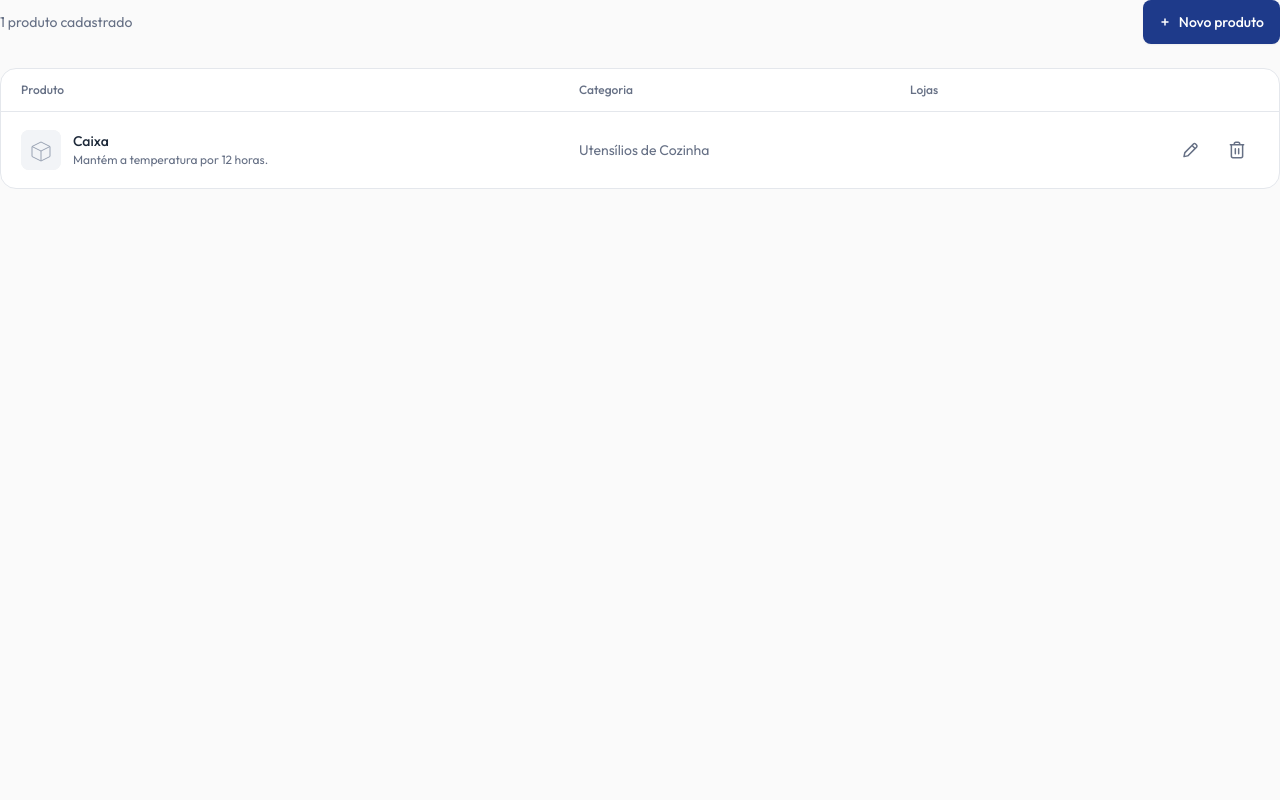
Test case: ProductAdminPanel › keeps only the chosen category when the product had several
The image size is (1280, 800).
Click the button named "Editar Caixa": (1189,150) [1167, 128, 1211, 172]
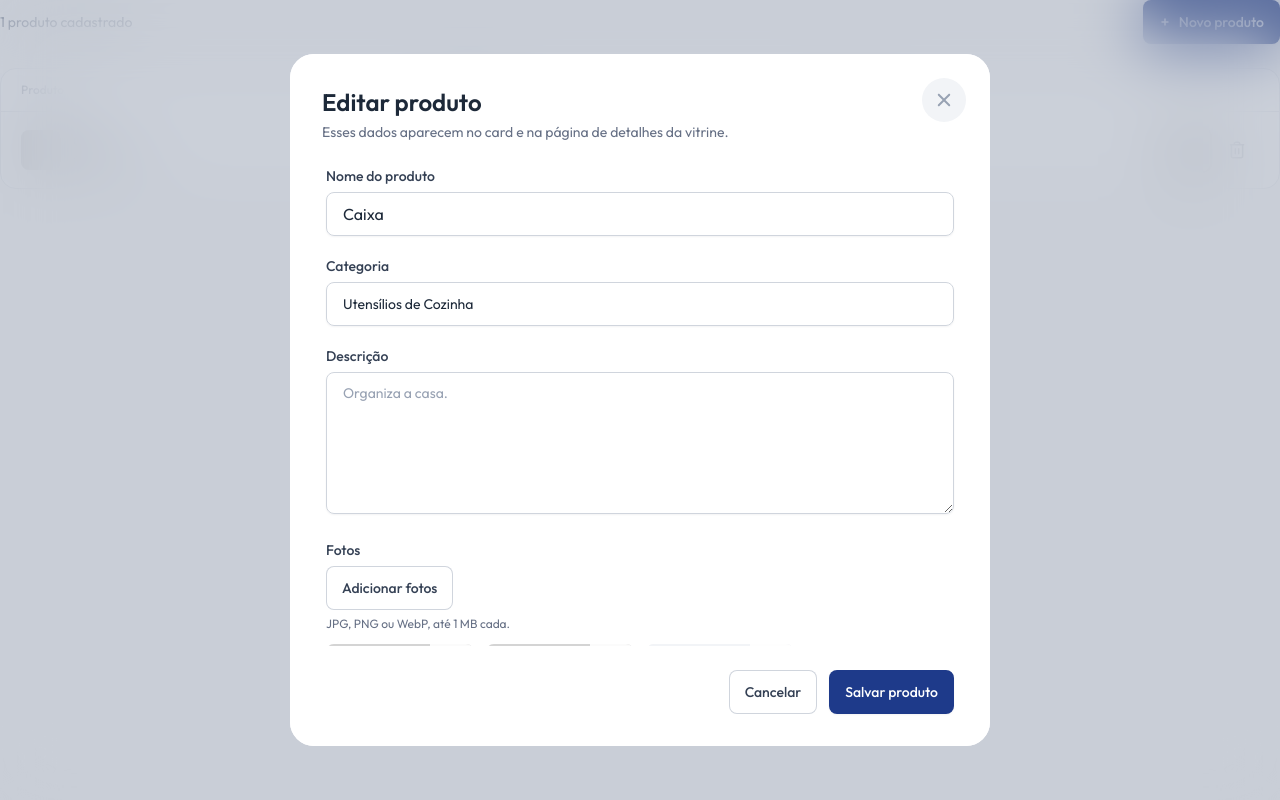
Select "Banheiros" in the dropdown labelled "Categoria": (640,304) [326, 282, 954, 326]
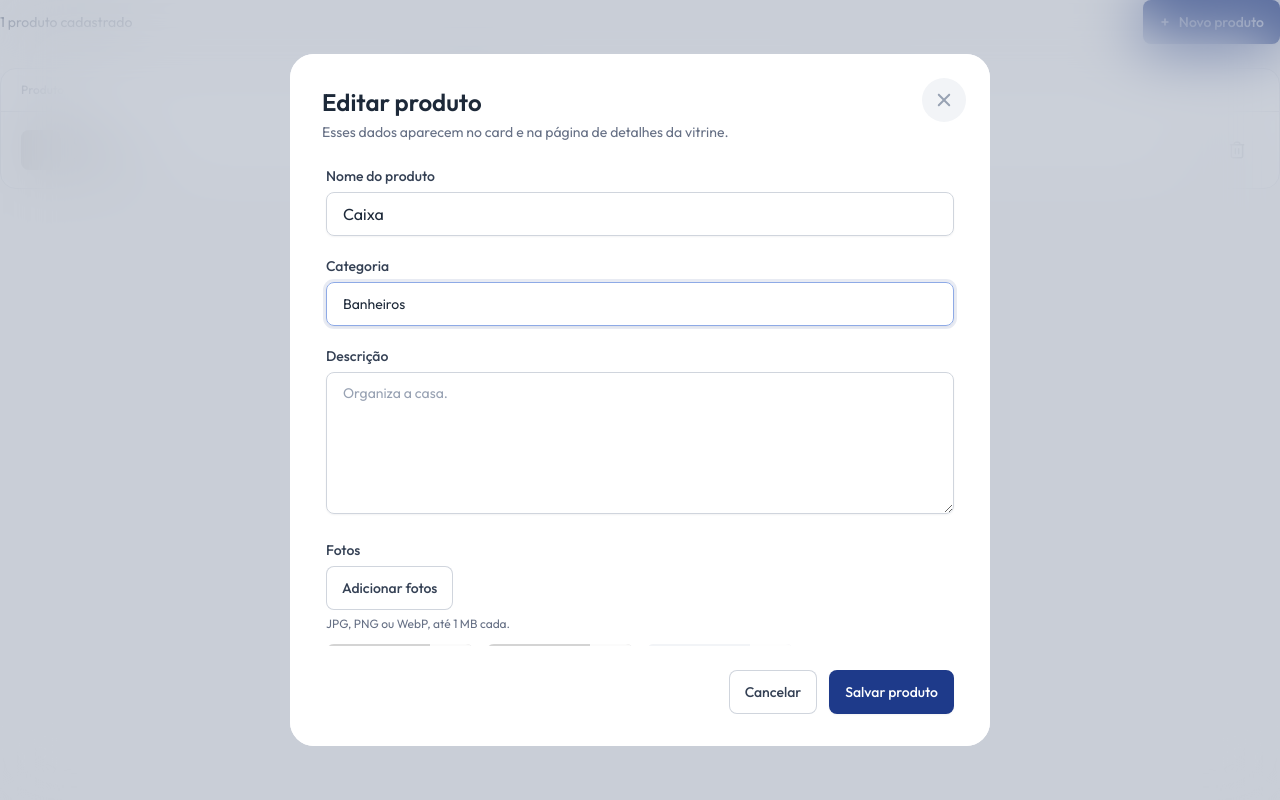
Click the button "Salvar produto": (892,692) [829, 670, 954, 714]
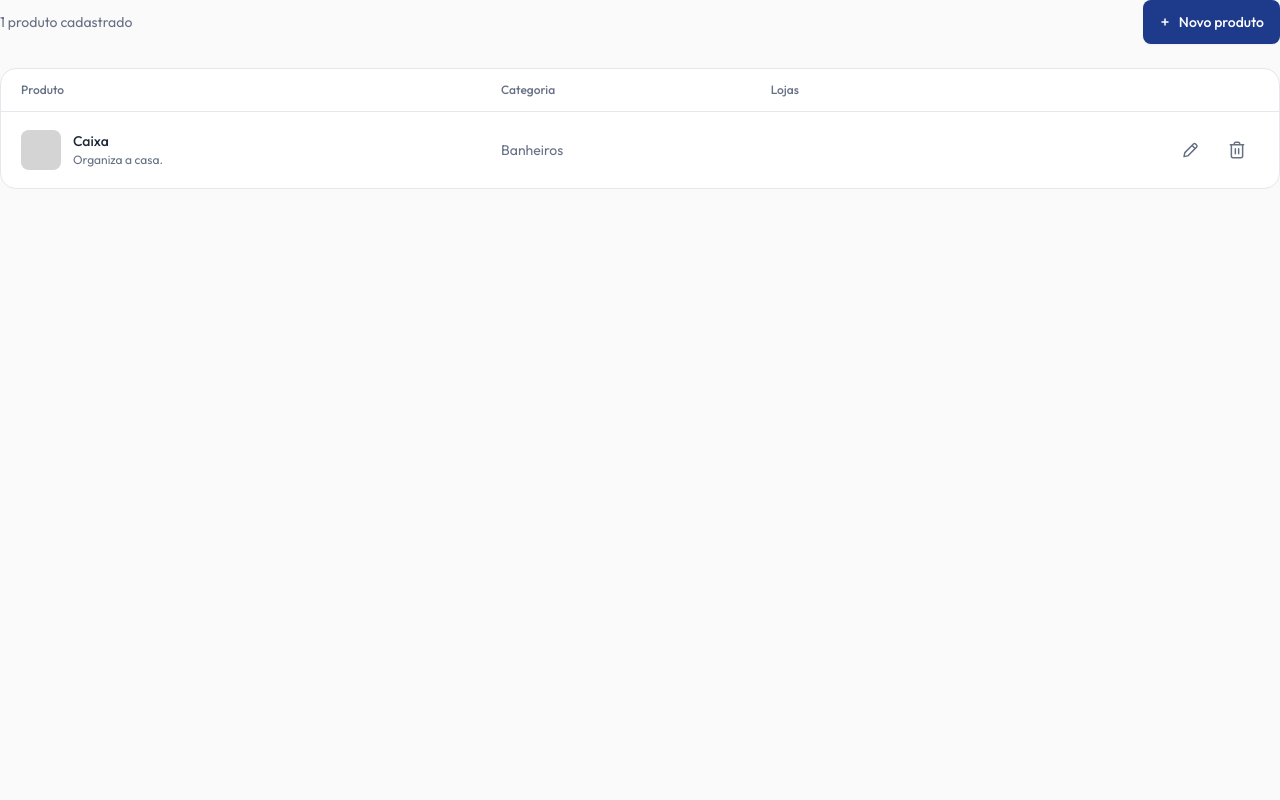
Result: the text "Banheiros" is shown at [481, 112, 751, 188]
